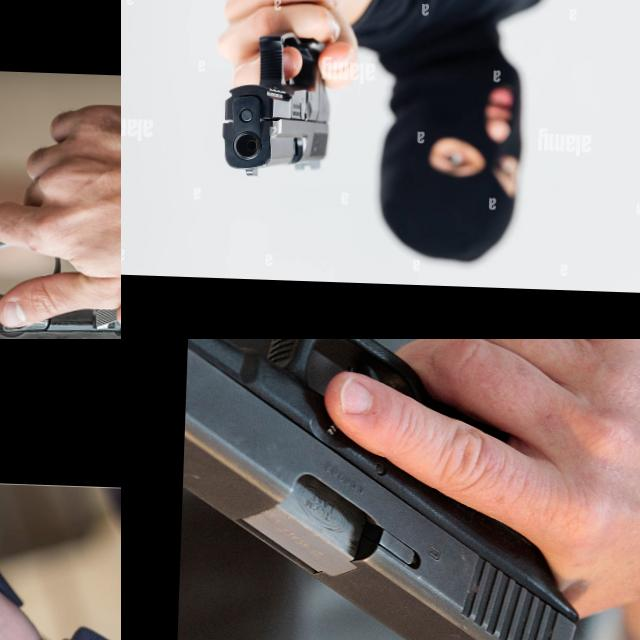handgun: (174, 339, 640, 640), (212, 24, 340, 185), (0, 479, 121, 640), (0, 234, 121, 339)
